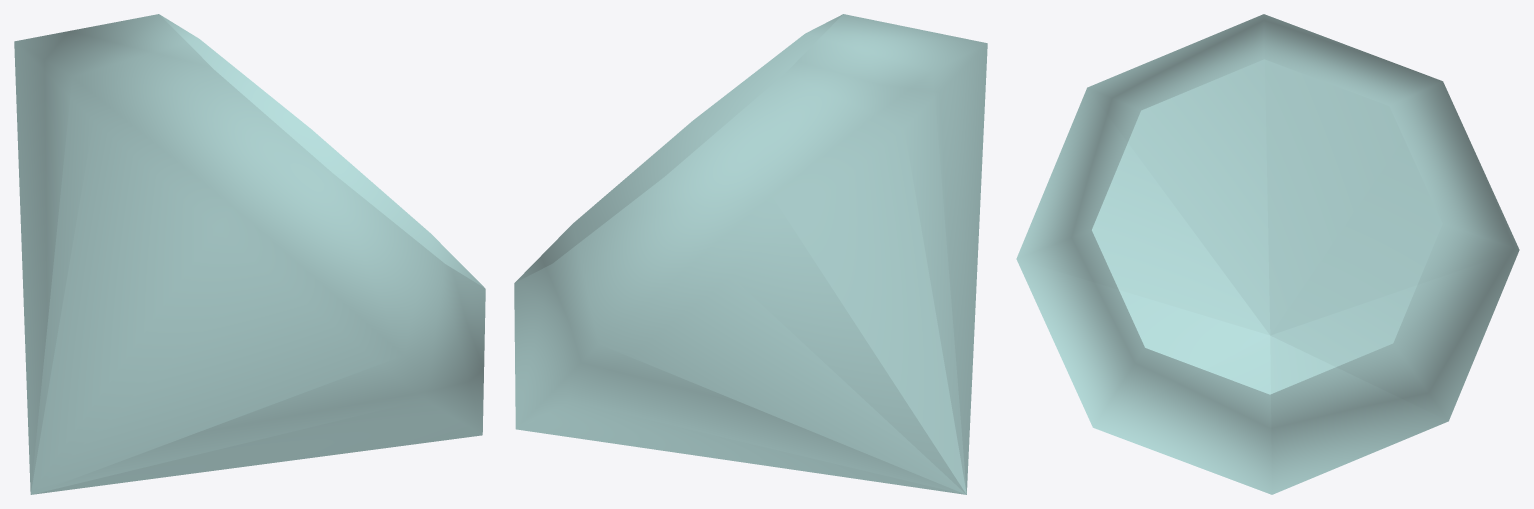
The model's file is Jewel.fbx.
3 views of the same model, side by side, from view 1: azimuth 30°, elevation 25°; view 2: azimuth 150°, elevation 25°; view 3: azimuth 270°, elevation 25° (orthographic). The views are drawn at different scales.
Parts seen in each view (by area): view 1: pCone1; view 2: pCone1; view 3: pCone1.
Part boxes in pixels (left/top/right/bottom): pCone1: left=14, top=14, right=485, bottom=494; pCone1: left=514, top=14, right=987, bottom=494; pCone1: left=1016, top=14, right=1519, bottom=494.
Size of the model in its own units: 0.8913 by 0.864 by 1.15.
